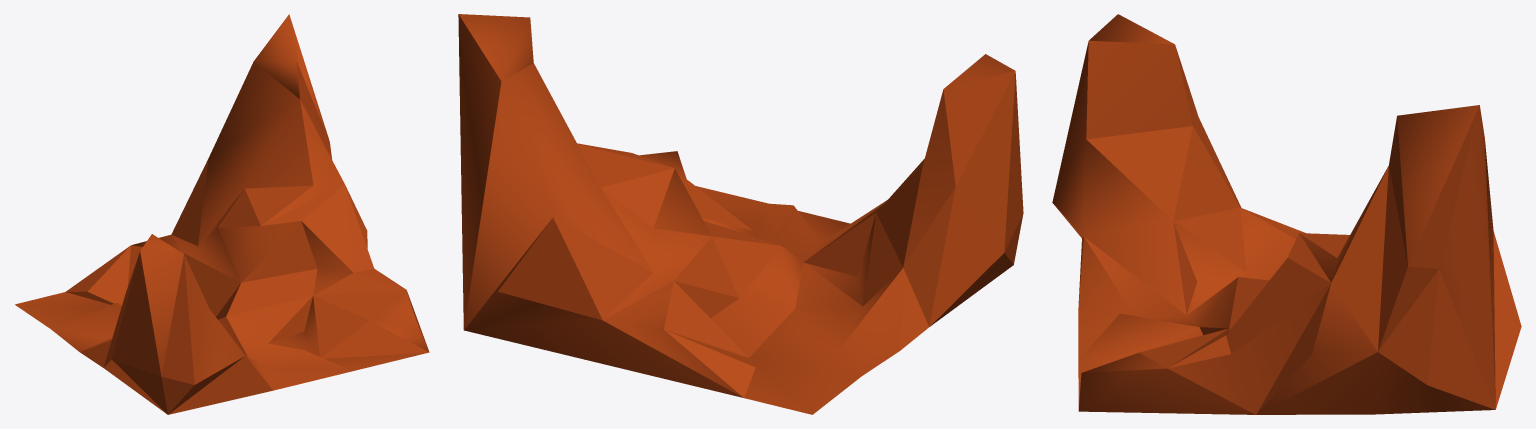
The model's file is Mountain_desert_006.glb.
The picture shows the model from 3 angles, left to right: view 1: azimuth 30°, elevation 25°; view 2: azimuth 150°, elevation 25°; view 3: azimuth 270°, elevation 25°; orthographic projection. The views are drawn at different scales.
Parts seen in each view (by area): view 1: Mountain_desert_006; view 2: Mountain_desert_006; view 3: Mountain_desert_006.
Boxes of the visible parts, box(x1,y1,x2,y2) form: Mountain_desert_006: box(15, 14, 429, 414); Mountain_desert_006: box(458, 14, 1023, 414); Mountain_desert_006: box(1052, 14, 1521, 414).
Bounding box in the file's own units: 26.76 × 19.19 × 25.91.
1 material, 1 textured.
